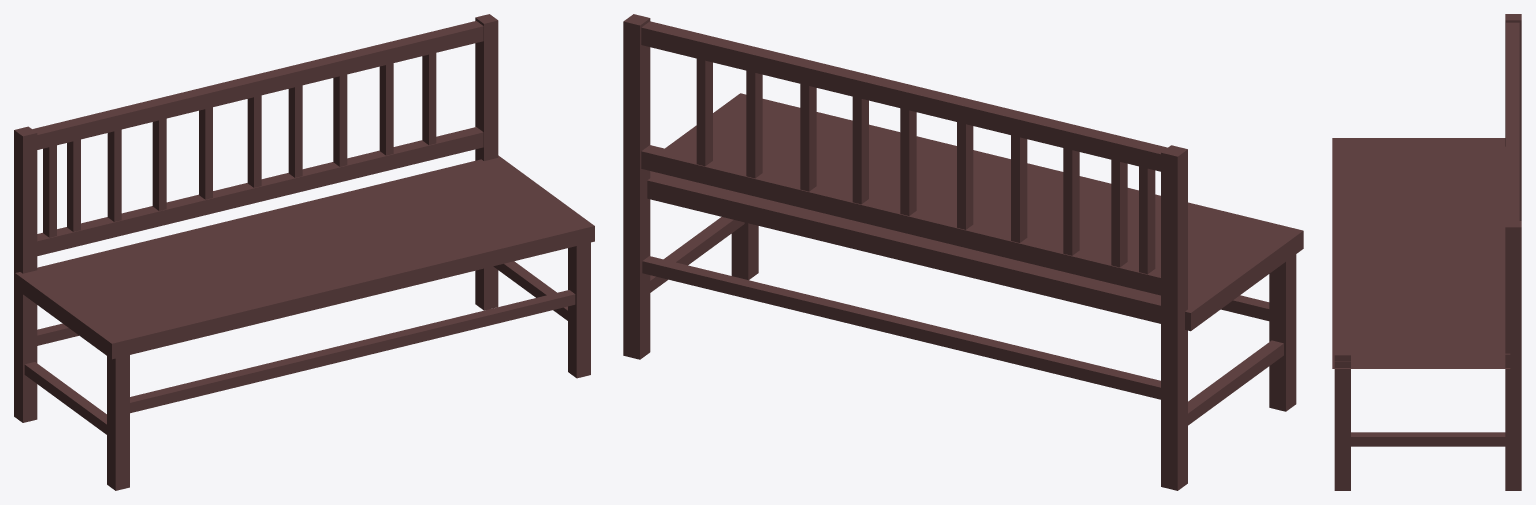
Rendered from chair4.obj.
3 renders of one model, left to right at view 1: azimuth 30°, elevation 25°; view 2: azimuth 150°, elevation 25°; view 3: azimuth 270°, elevation 25°, orthographic. The views are drawn at different scales.
Parts seen in each view (by area): view 1: chair4; view 2: chair4; view 3: chair4.
Boxes of the visible parts, <box> form: chair4: <box>14,14,594,490</box>; chair4: <box>623,14,1303,490</box>; chair4: <box>1332,14,1521,490</box>.
Size of the model in its own units: 1.58 by 0.8966 by 0.5827.
